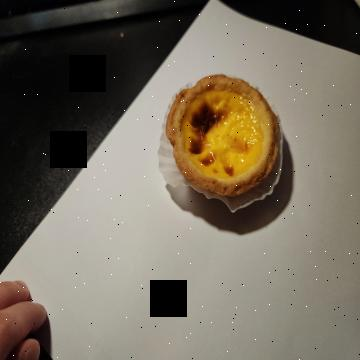EggTart: (166, 73, 279, 196)
